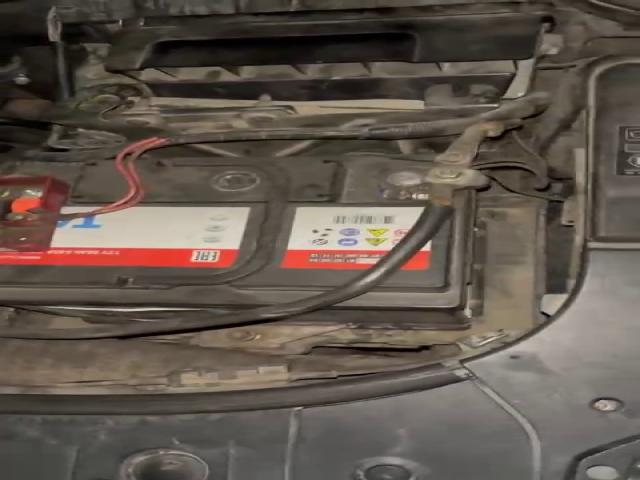accumulator: (4, 155, 494, 322)
